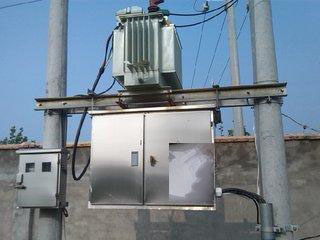oil: (168, 144, 215, 205)
